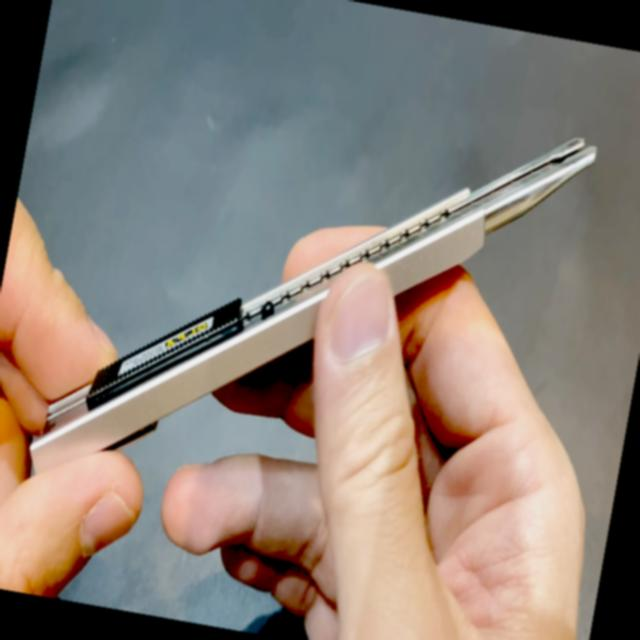cutter: (0, 0, 621, 614)
